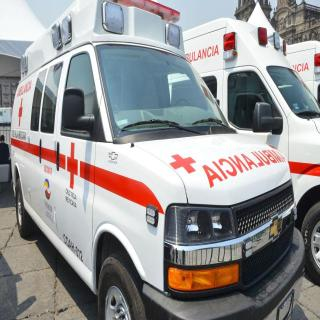Ambulance: (0, 0, 308, 320)
